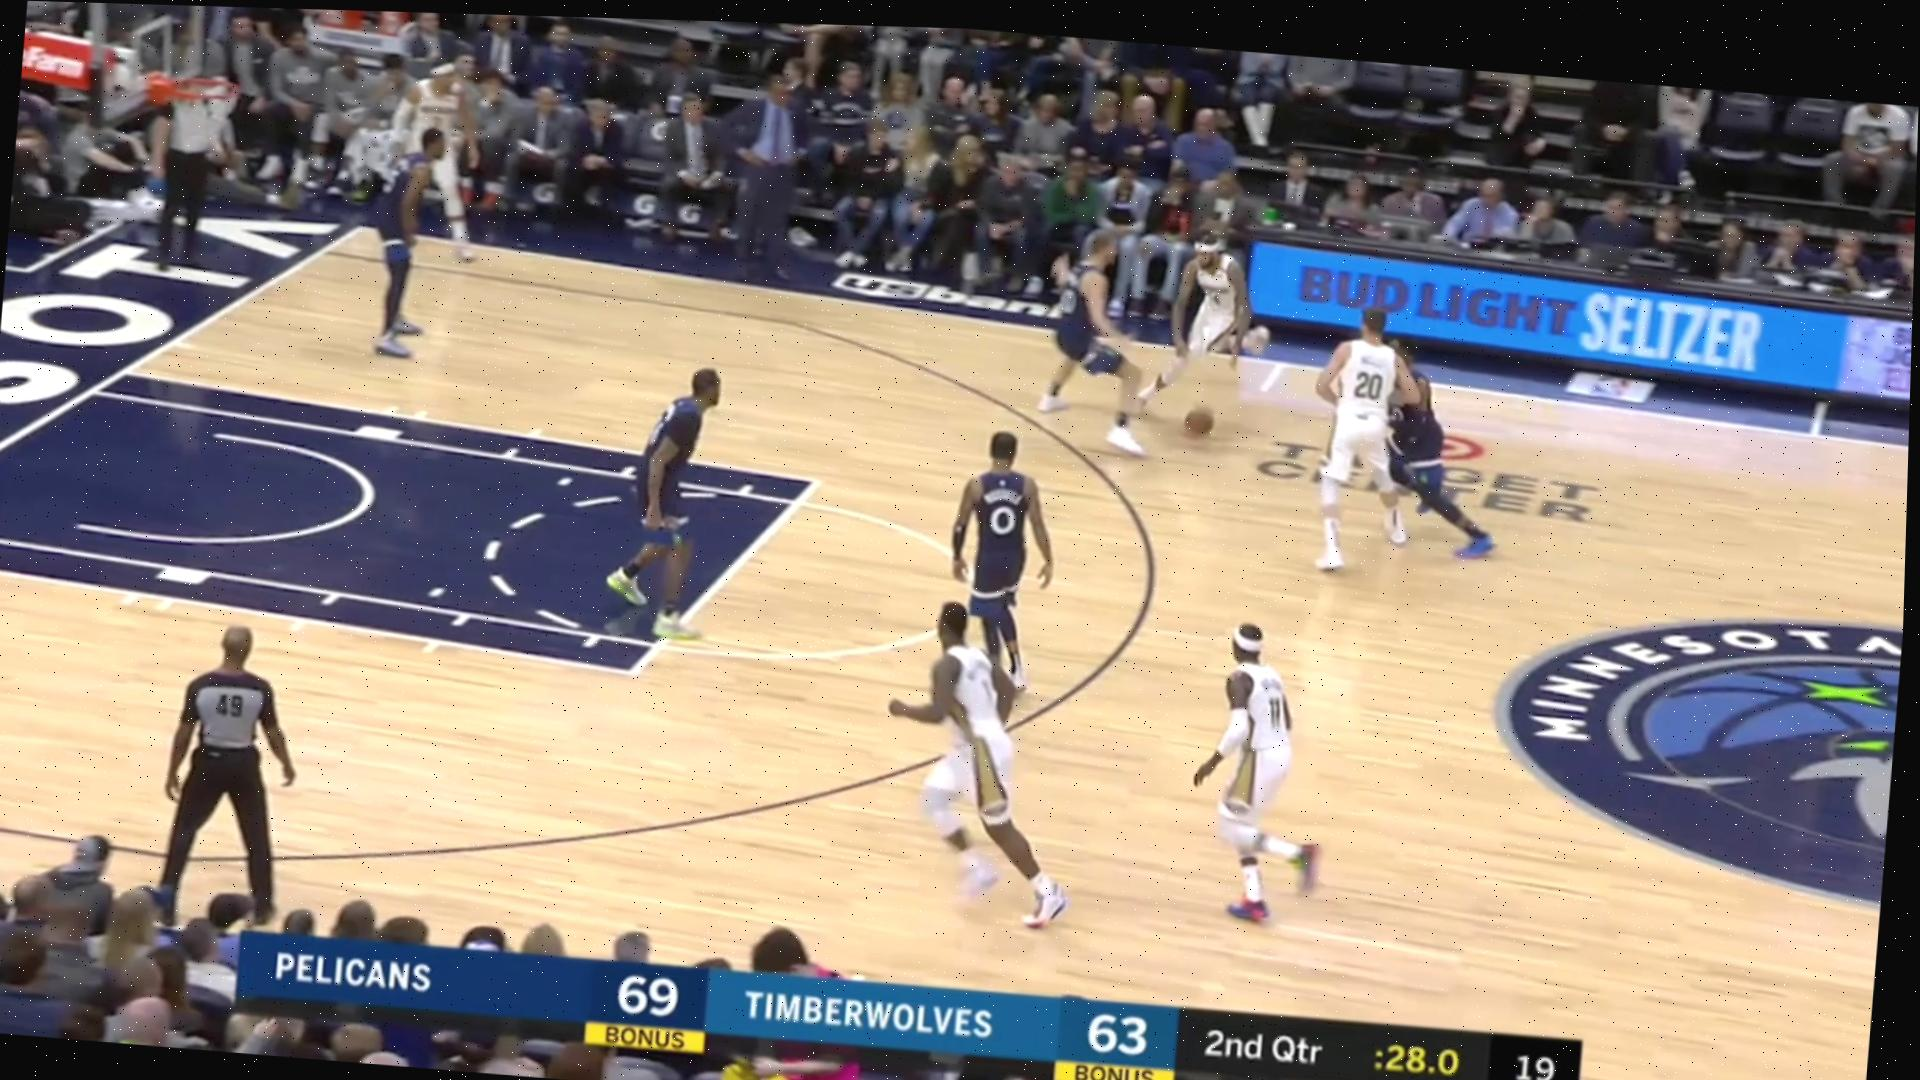no_foul: (1294, 276, 1491, 592)
